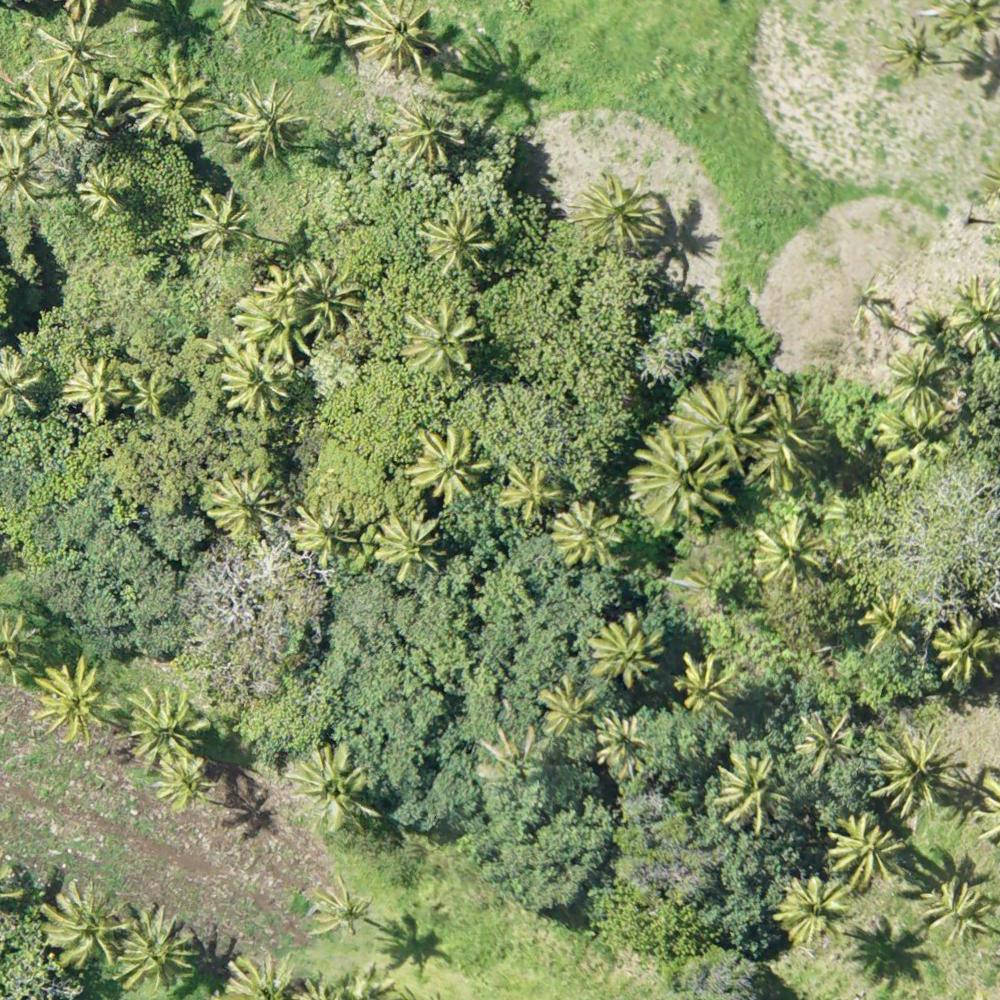Palm: (636, 429, 737, 528), (675, 381, 772, 476), (40, 884, 129, 974), (871, 732, 962, 818), (757, 388, 832, 490), (293, 747, 375, 836), (135, 57, 213, 146), (225, 79, 304, 165), (574, 174, 654, 258), (34, 663, 115, 745), (401, 299, 482, 380), (124, 686, 206, 766), (351, 1, 436, 75), (413, 425, 491, 505), (124, 910, 201, 990), (830, 817, 906, 891), (712, 754, 789, 827), (208, 469, 283, 543), (13, 77, 83, 156), (222, 345, 296, 419), (235, 293, 311, 363), (758, 518, 831, 589), (392, 93, 465, 164), (874, 410, 949, 479), (35, 12, 111, 80), (298, 255, 365, 332), (586, 617, 662, 682), (553, 499, 624, 568), (932, 615, 1000, 687), (290, 501, 363, 568), (475, 724, 550, 788), (423, 206, 492, 274), (793, 709, 865, 774), (187, 186, 254, 254), (375, 510, 441, 579), (62, 357, 131, 422), (889, 349, 955, 415), (926, 881, 993, 946), (779, 881, 847, 945), (882, 17, 942, 77), (309, 878, 367, 940), (537, 679, 599, 736), (593, 715, 654, 772), (678, 652, 737, 710), (503, 461, 564, 517), (861, 593, 919, 651), (950, 280, 1000, 345), (156, 760, 217, 812), (255, 266, 312, 317), (75, 165, 133, 215), (855, 276, 902, 328), (909, 302, 957, 352), (132, 369, 174, 417)
